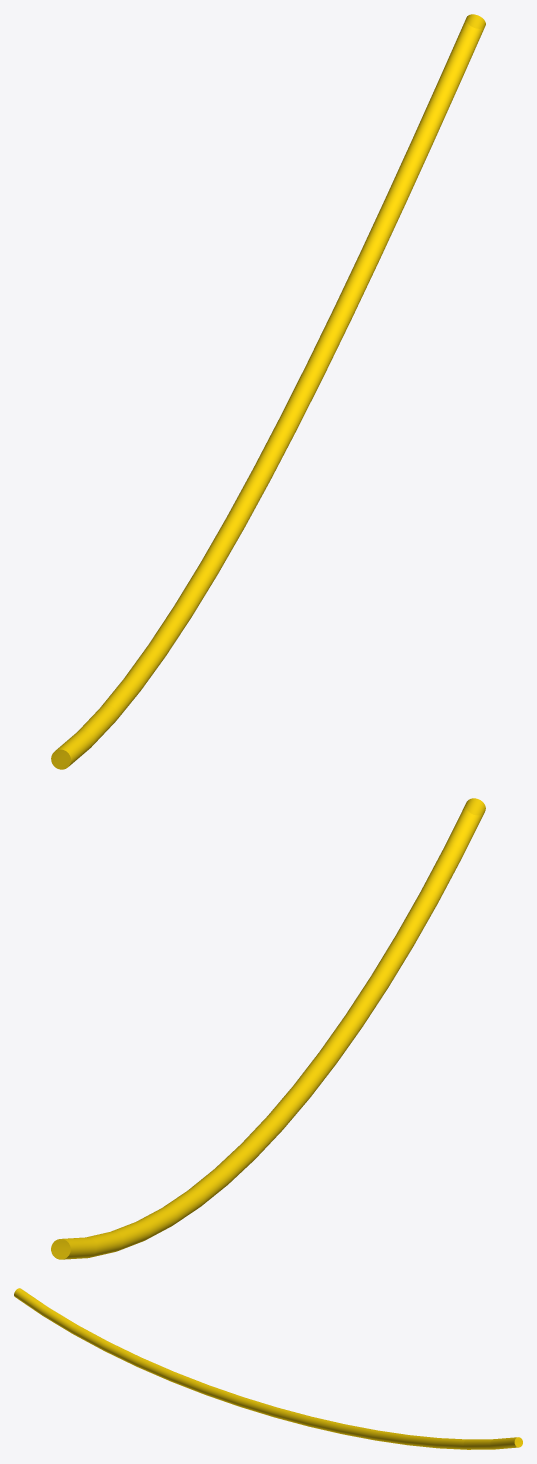
The model's file is Event_421278790_track_7.fbx.
3 renders of one model, top to bottom at view 1: azimuth 30°, elevation 25°; view 2: azimuth 210°, elevation 25°; view 3: azimuth 270°, elevation 25°, orthographic. The views are drawn at different scales.
Visible parts, largest first — view 1: Model; view 2: Model; view 3: Model.
Boxes of the visible parts, box(x1,y1,x2,y2) form: Model: box(51, 14, 485, 769); Model: box(51, 798, 485, 1259); Model: box(14, 1288, 522, 1449).
Size of the model in its own units: 2.05 by 0.4208 by 1.95.
